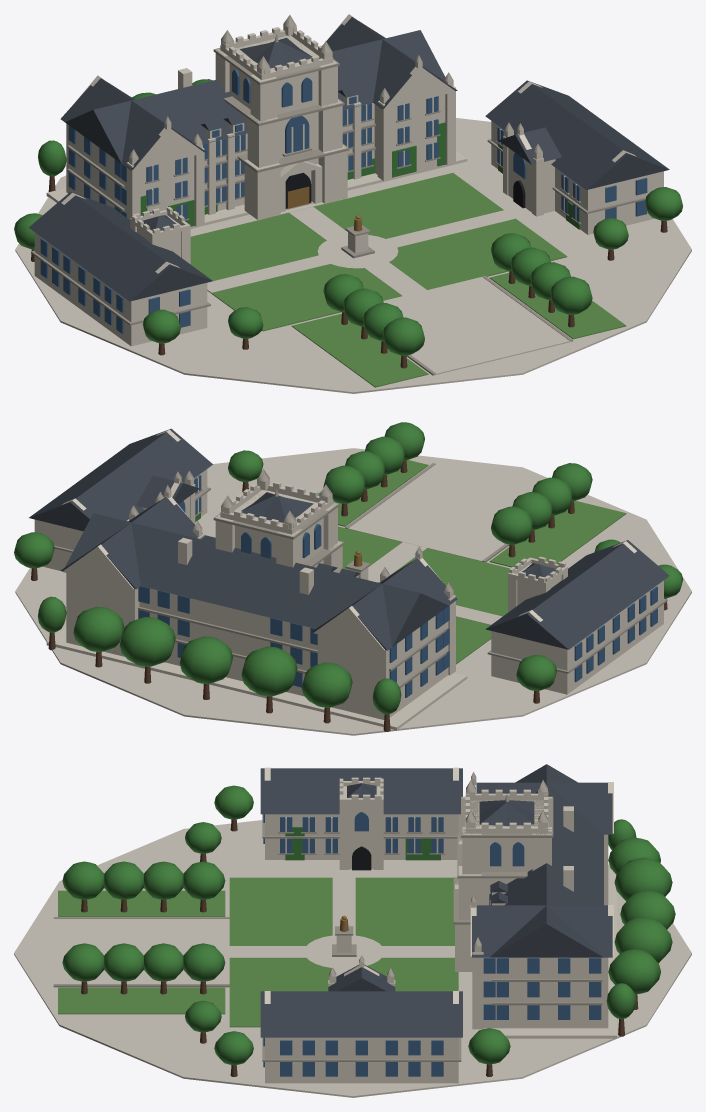
File: yonsei-underwood.glb
The picture shows the model from 3 angles, top to bottom: view 1: azimuth 30°, elevation 25°; view 2: azimuth 150°, elevation 25°; view 3: azimuth 270°, elevation 25°; orthographic projection.
Size of the model in its own units: 110 by 28.9 by 110.
